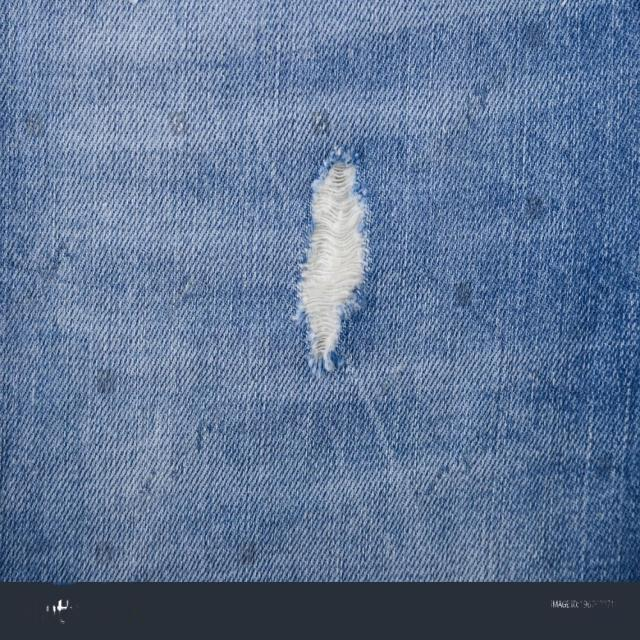cut: (298, 156, 372, 384)
